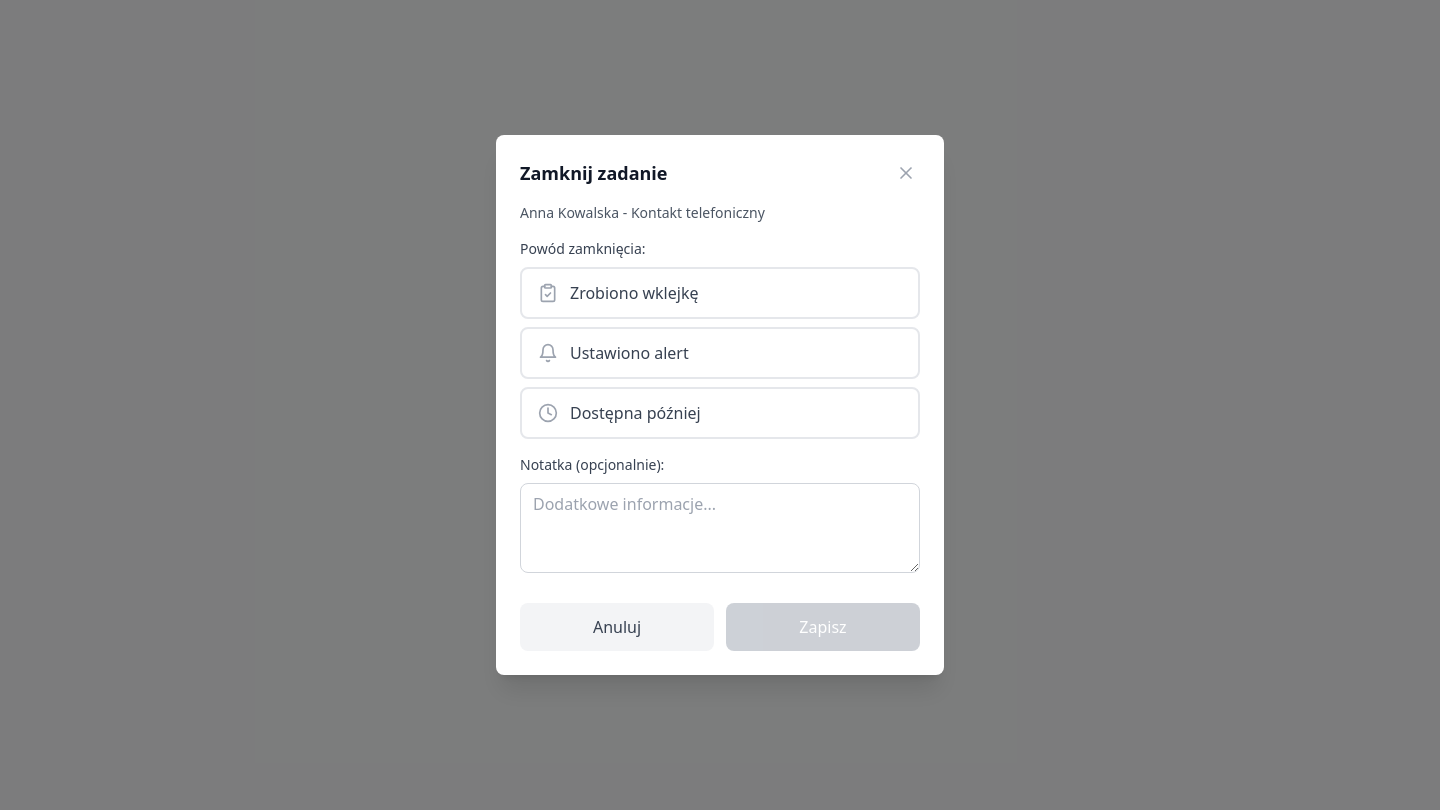
Scenario: CloseTaskDialog › should highlight selected reason
What coordinates should you click on to do the following:
click the button with test id "reason-alert"
I would click on:
 (629, 353)
Its box is [520,327,920,379].
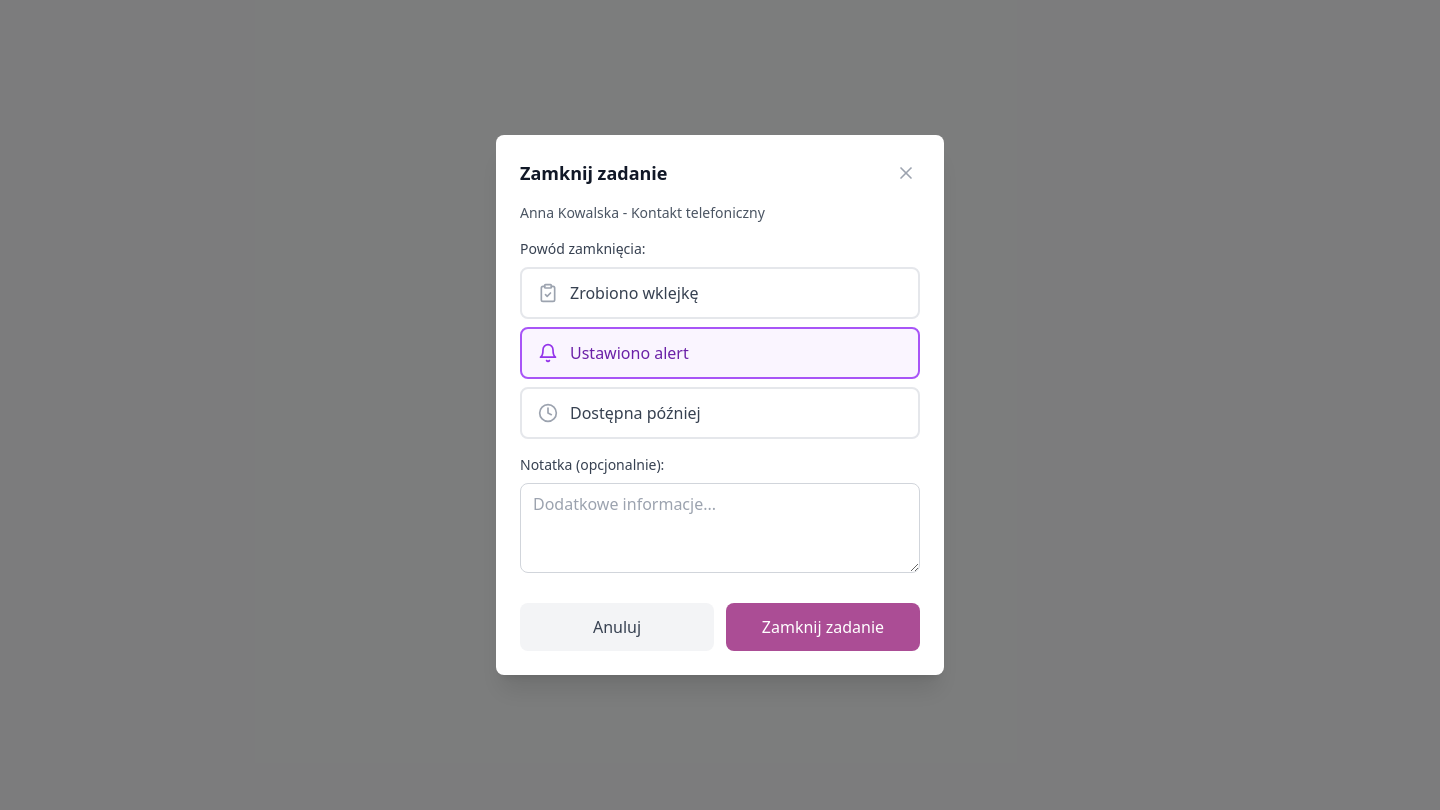
Check: the button with test id "reason-alert" has class "border-purple-500", box [520,327,920,379]
